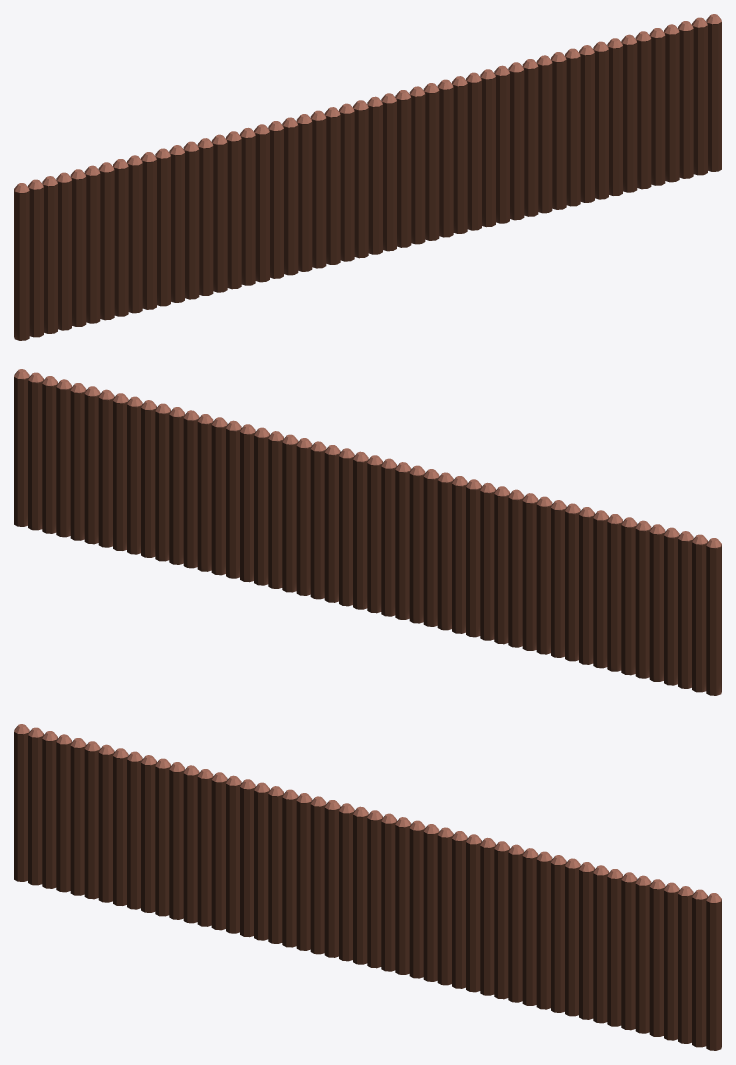
Rendered from muro.fbx.
The picture shows the model from 3 angles, top to bottom: view 1: azimuth 30°, elevation 25°; view 2: azimuth 150°, elevation 25°; view 3: azimuth 330°, elevation 25°; orthographic projection.
Parts seen in each view (by area): view 1: Cylinder; view 2: Cylinder; view 3: Cylinder.
Boxes of the visible parts, <box> form: Cylinder: <box>14,14,721,340</box>; Cylinder: <box>14,369,721,695</box>; Cylinder: <box>14,724,721,1050</box>.
Bounding box in the file's own units: 14020 × 2903 × 280.
Materials: 1 (1 with a texture image).
